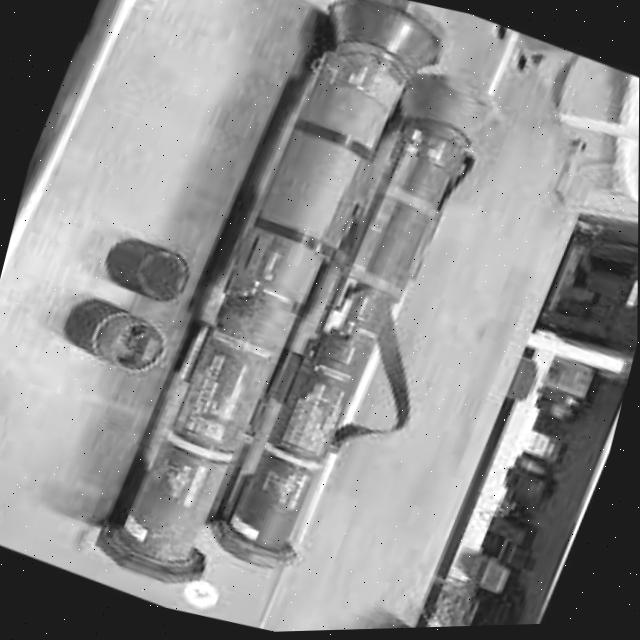rocket: (95, 0, 525, 638)
